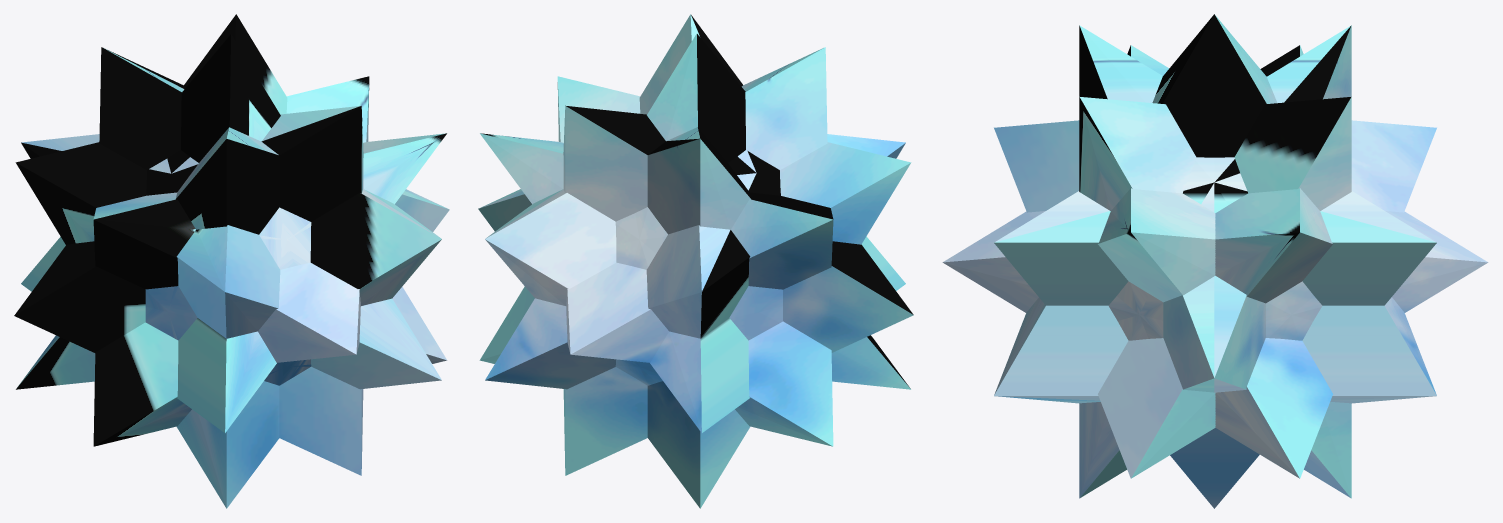
Rendered from Spark.glb.
3 views of the same model, side by side, from view 1: azimuth 30°, elevation 25°; view 2: azimuth 150°, elevation 25°; view 3: azimuth 270°, elevation 25° (orthographic). The views are drawn at different scales.
Visible parts, largest first — view 1: Spark; view 2: Spark; view 3: Spark.
Boxes of the visible parts, box(x1,y1,x2,y2) form: Spark: box(14, 14, 449, 508); Spark: box(478, 14, 913, 508); Spark: box(942, 14, 1488, 508).
Size of the model in its own units: 3.34 by 3.34 by 3.34.
Materials: 1 (1 with a texture image).
